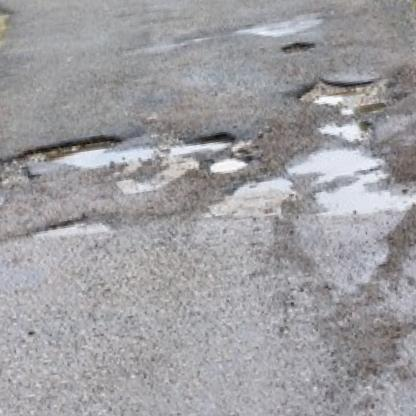pothole: (9, 117, 238, 180), (293, 66, 406, 122), (26, 212, 117, 247), (206, 149, 255, 180), (279, 36, 317, 57)
